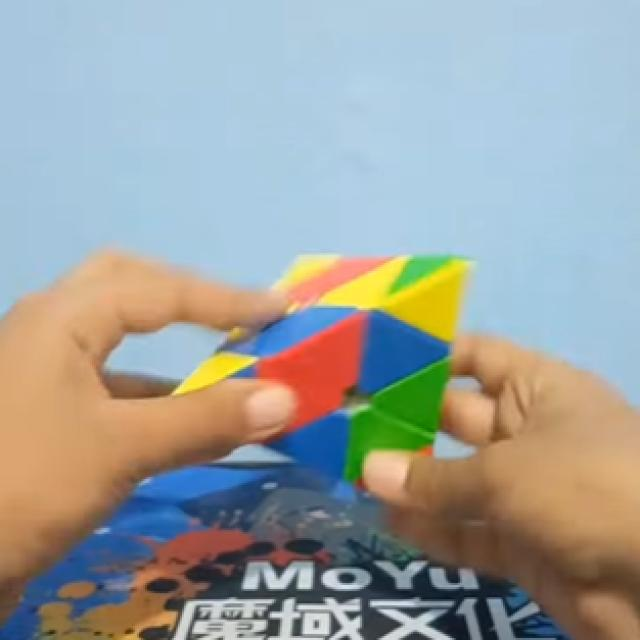Pyraminx: (178, 255, 468, 481)
